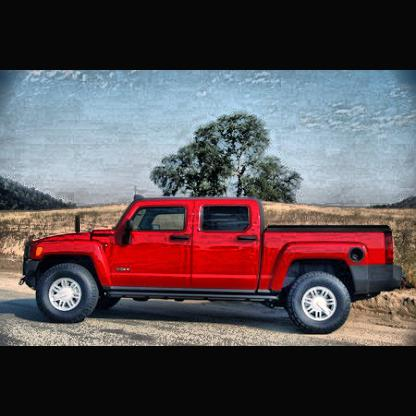HUMMER H3T Crew Cab 2010: (18, 195, 406, 336)
